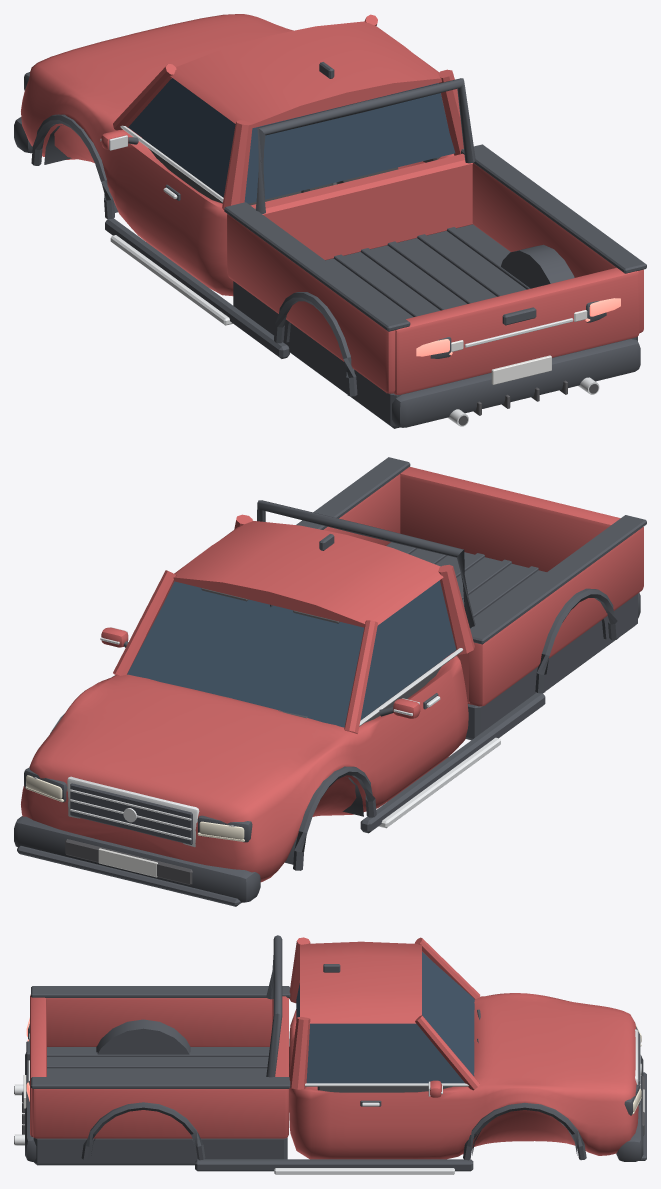
Rendered from Car_Pickup.fbx.
3 renders of one model, top to bottom at view 1: azimuth 30°, elevation 25°; view 2: azimuth 150°, elevation 25°; view 3: azimuth 270°, elevation 25°, orthographic. The views are drawn at different scales.
Visible parts, largest first — view 1: Car_Pickup, Car_Taillights; view 2: Car_Pickup, Car_Headlights; view 3: Car_Pickup.
Part boxes in pixels (x1,y1,x2,y2): Car_Pickup: [14, 14, 646, 428]; Car_Taillights: [416, 298, 620, 356]; Car_Pickup: [14, 457, 646, 906]; Car_Headlights: [25, 775, 244, 841]; Car_Pickup: [14, 935, 646, 1174].
Bounding box in the file's own units: 2.35 × 1.43 × 5.18.
